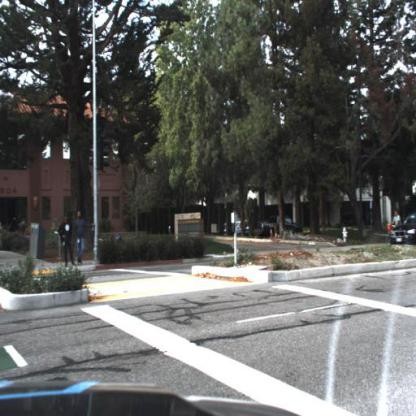biker: (385, 208, 403, 246)
car: (258, 212, 304, 244), (392, 215, 416, 253), (237, 221, 249, 237)
pedestrian: (57, 210, 74, 271), (74, 208, 89, 269)
